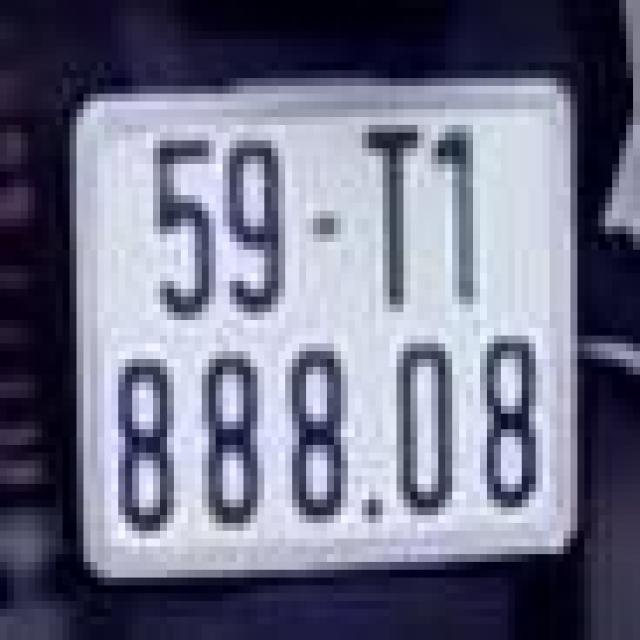0: (390, 336, 466, 523)
1: (421, 110, 490, 304)
5: (132, 125, 223, 328)
8: (271, 336, 355, 523), (473, 332, 550, 519), (108, 351, 184, 539), (195, 344, 264, 546)
9: (219, 113, 289, 332)
T: (348, 109, 424, 320)
